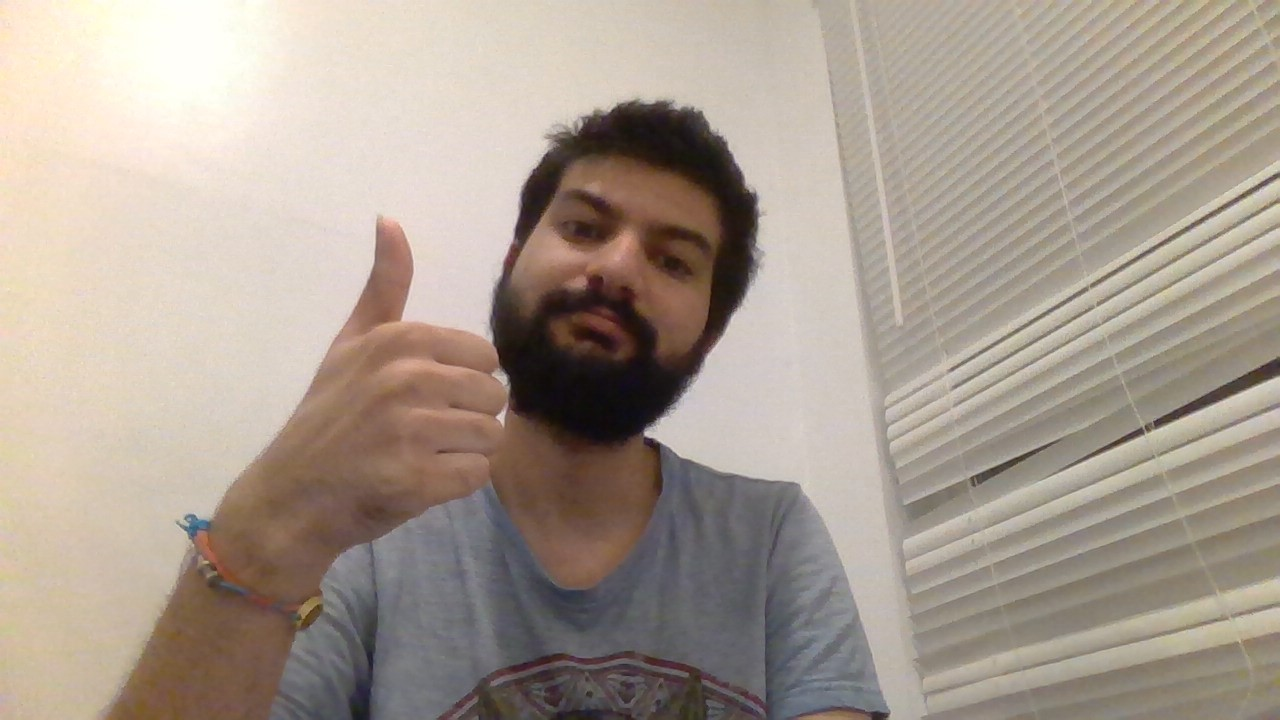up: (308, 203, 506, 538)
